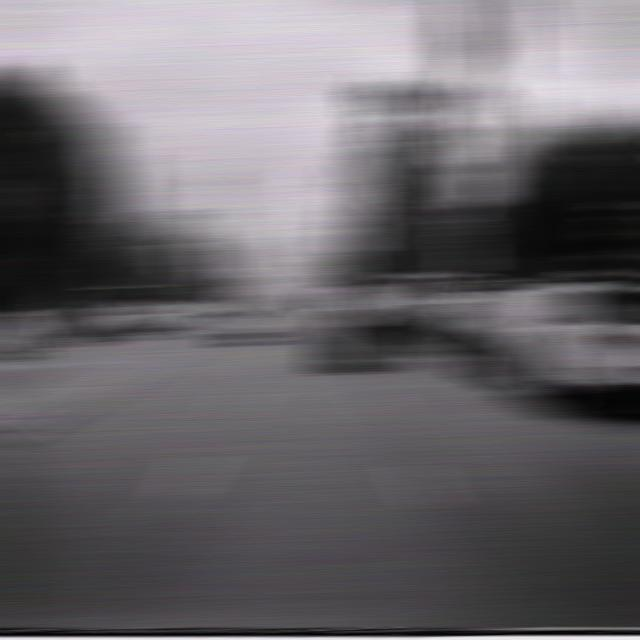speedLimit35: (446, 216, 486, 250)
